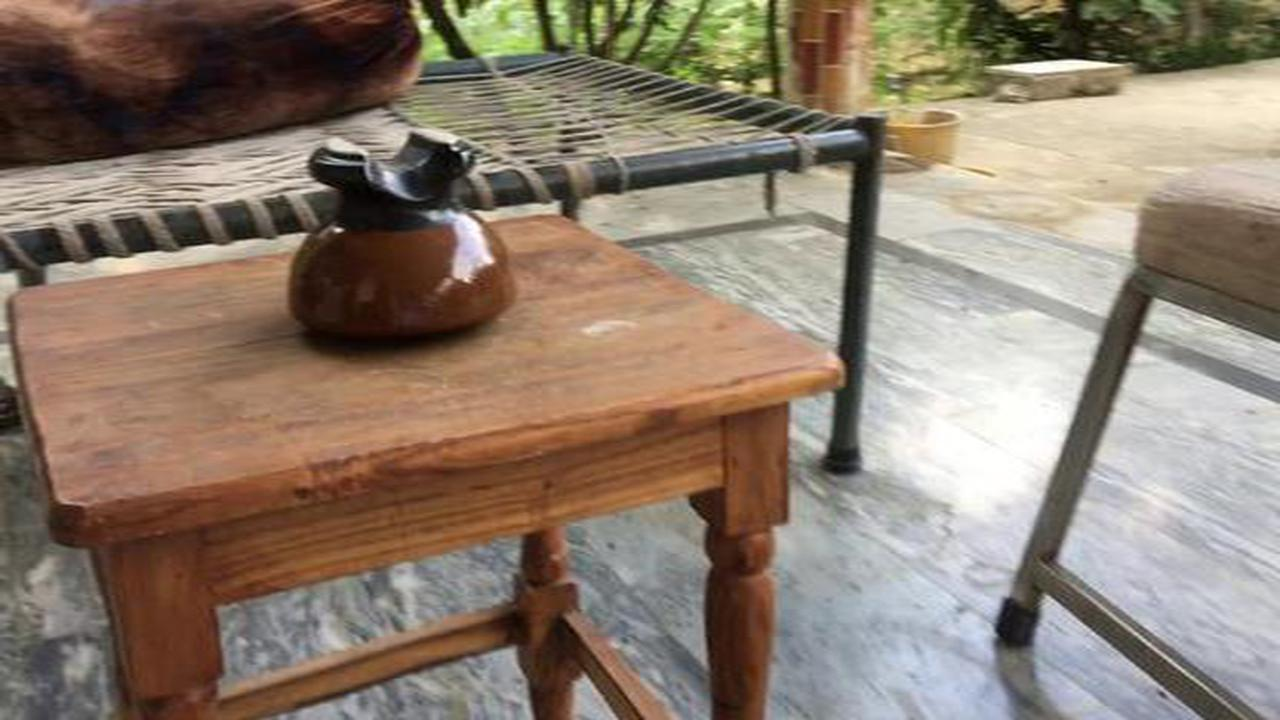insulator_pin: (268, 116, 539, 352)
